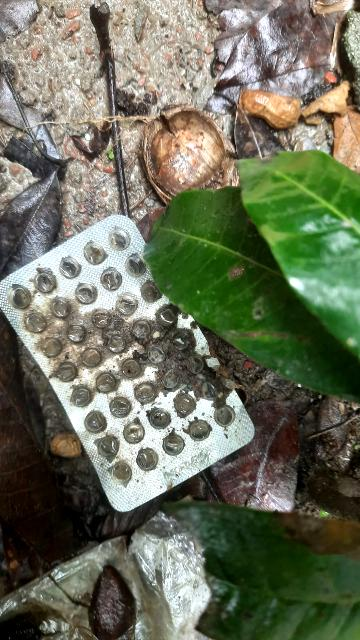medicine: (0, 189, 276, 520)
